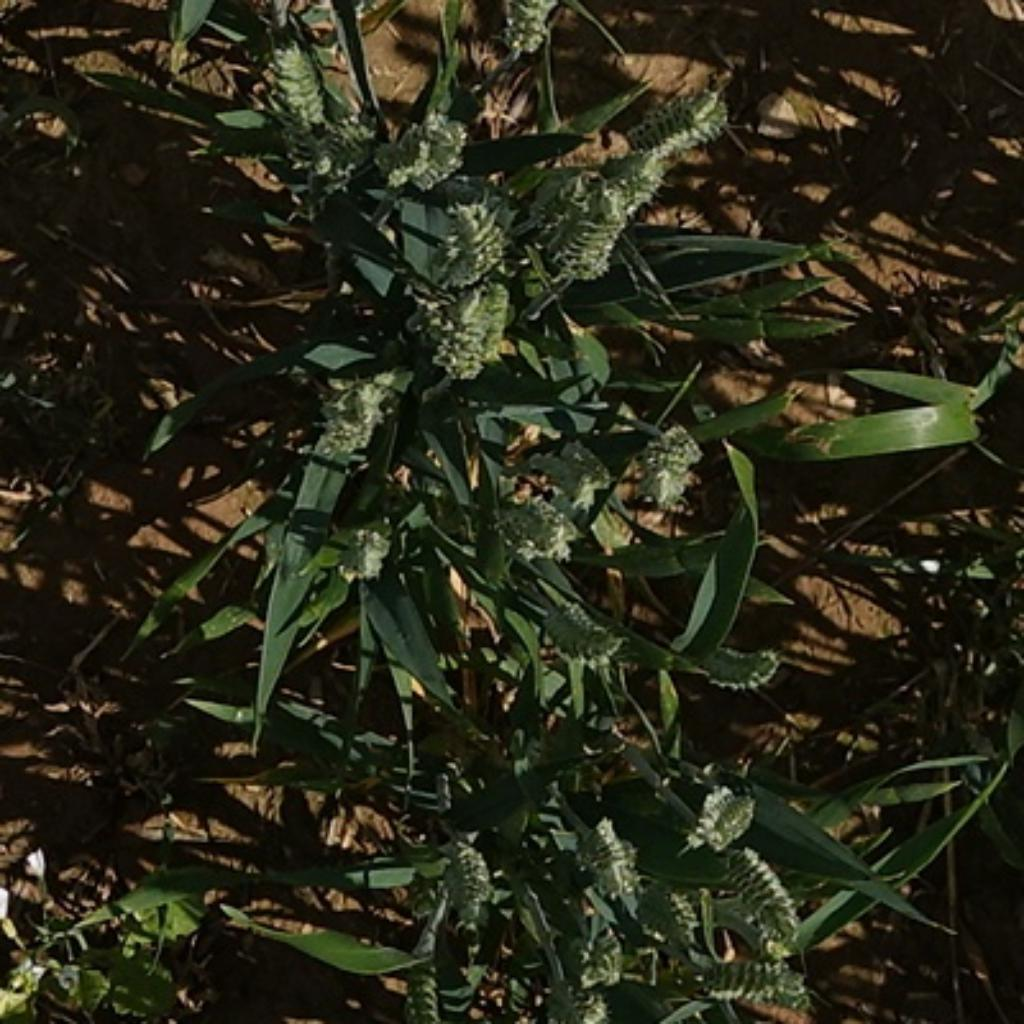0-0: (296, 348, 424, 471), (266, 92, 384, 192), (376, 99, 473, 194), (422, 276, 514, 376), (256, 30, 340, 138), (471, 478, 573, 565), (622, 84, 737, 158), (716, 837, 801, 934), (627, 418, 706, 518), (422, 197, 509, 286), (537, 588, 629, 668), (688, 950, 810, 1009), (565, 811, 642, 901), (555, 191, 627, 283), (431, 836, 503, 923), (624, 872, 704, 947), (535, 944, 609, 1024), (691, 634, 785, 693), (531, 174, 610, 244), (491, 0, 586, 58), (686, 778, 760, 849), (568, 913, 632, 995), (332, 522, 396, 592), (601, 156, 667, 220), (399, 938, 444, 1022)
